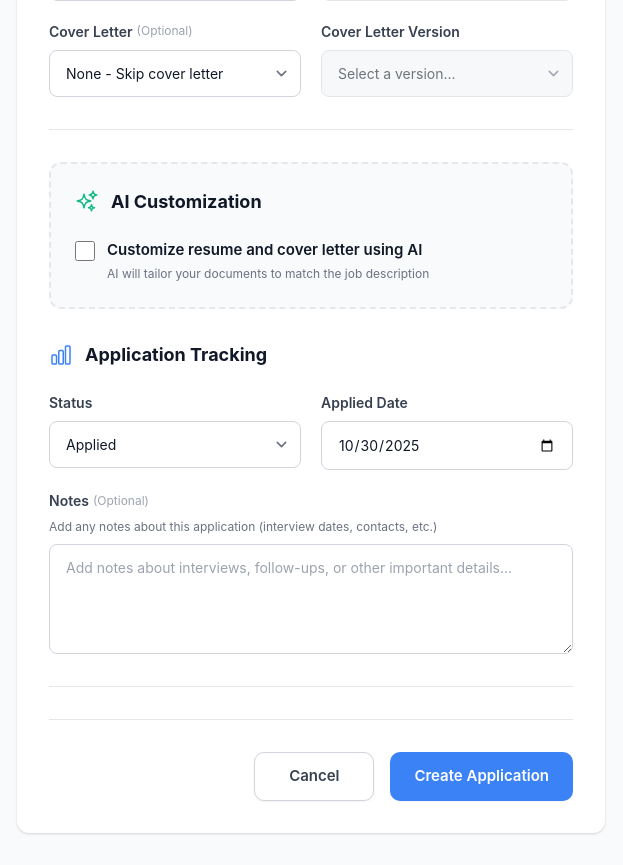
Test: ApplicationFormPage › should show validation errors for required fields
(page scrolled)
Click the button "Create Application": (482,776) [390,752,573,801]
(page scrolled)
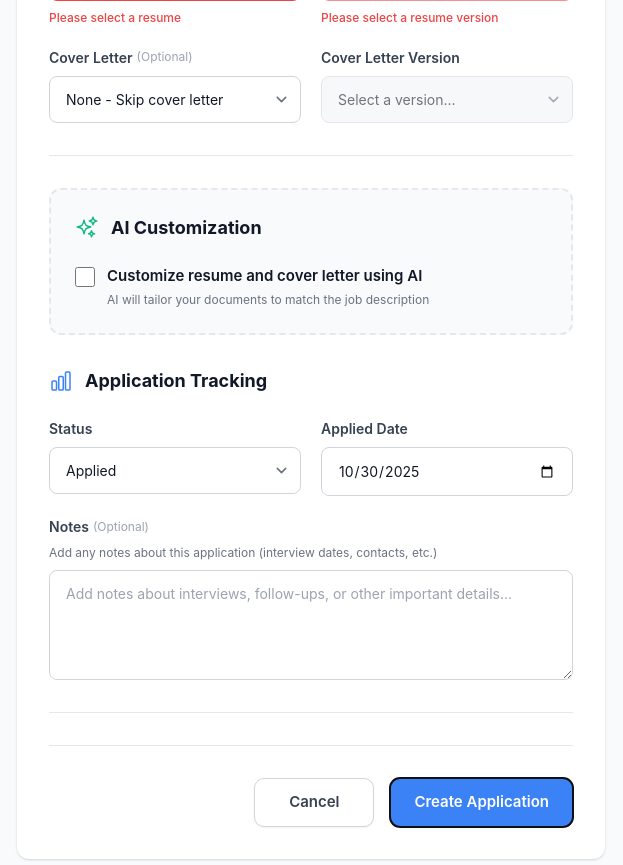
Now the text "Please select a resume" is shown, box [49,10,181,25]
Now the text "Please select a resume version" is shown, box [321,10,499,25]
